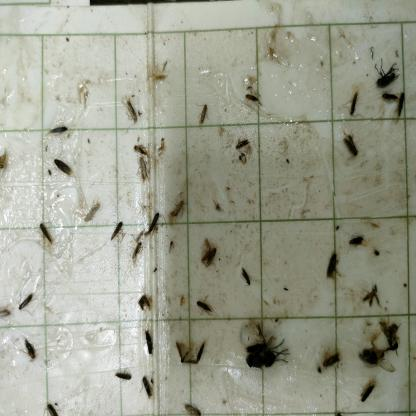prays_oleae: (355, 336, 395, 383), (322, 244, 342, 294), (342, 125, 361, 171), (50, 150, 74, 185), (174, 334, 198, 368), (167, 195, 188, 228), (363, 280, 380, 318), (37, 219, 56, 250), (193, 331, 209, 367), (133, 155, 150, 188), (319, 351, 343, 374), (21, 332, 40, 361), (196, 290, 214, 320), (80, 202, 102, 226), (146, 206, 164, 235), (122, 94, 138, 126), (348, 224, 366, 252), (348, 91, 364, 121), (144, 326, 158, 360), (360, 378, 379, 402), (131, 140, 151, 162), (245, 90, 263, 114), (208, 242, 224, 269), (140, 371, 155, 399), (109, 220, 128, 242), (382, 88, 398, 113), (198, 104, 212, 132), (394, 90, 408, 118), (240, 262, 253, 290), (116, 368, 134, 388), (234, 134, 252, 154), (181, 398, 202, 415), (128, 240, 144, 262), (0, 297, 11, 327), (15, 296, 38, 310), (42, 400, 60, 416), (47, 125, 70, 137), (196, 250, 212, 264)
